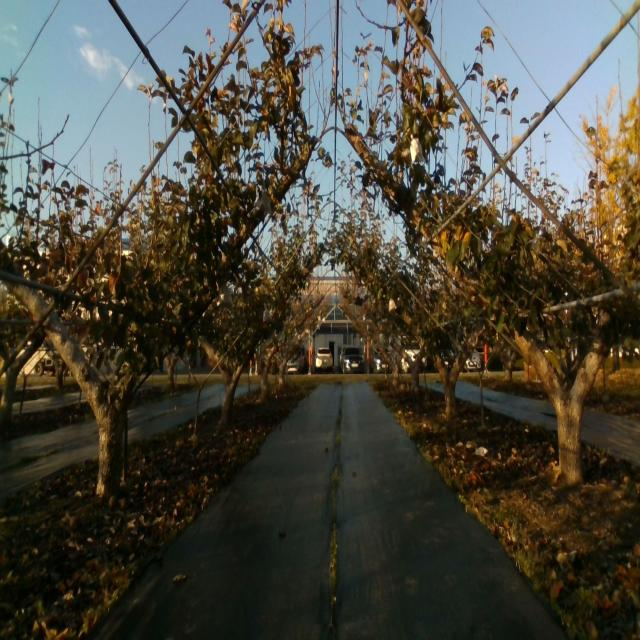pearbags: (410, 133, 424, 162), (255, 190, 271, 214), (218, 287, 234, 306)
